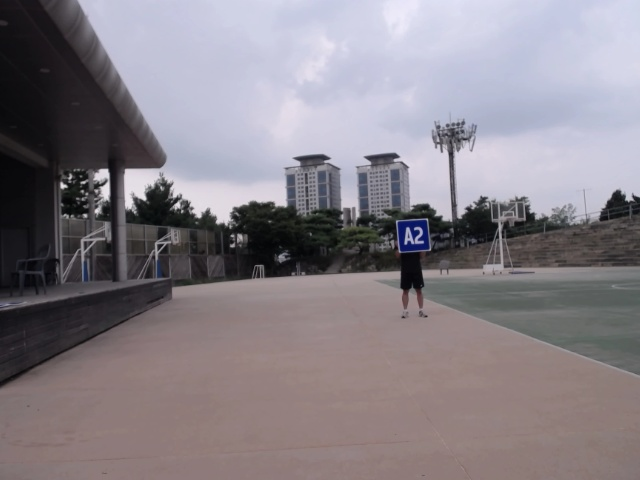delivery_a2: (396, 219, 430, 253)
